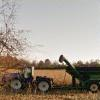Tractor: (4, 57, 57, 93)
